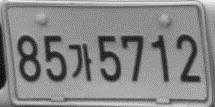1: (150, 33, 170, 82)
2: (175, 32, 201, 83)
5: (43, 35, 67, 82), (97, 34, 121, 81)
7: (120, 34, 143, 81)
8: (16, 34, 41, 82)
가: (68, 42, 92, 82)
